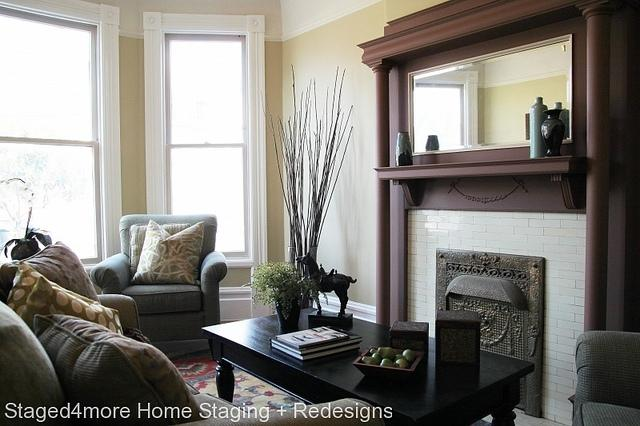pear: (378, 347, 397, 362), (359, 353, 379, 364), (394, 359, 409, 369), (380, 358, 394, 368), (395, 354, 407, 362), (367, 348, 378, 354)
